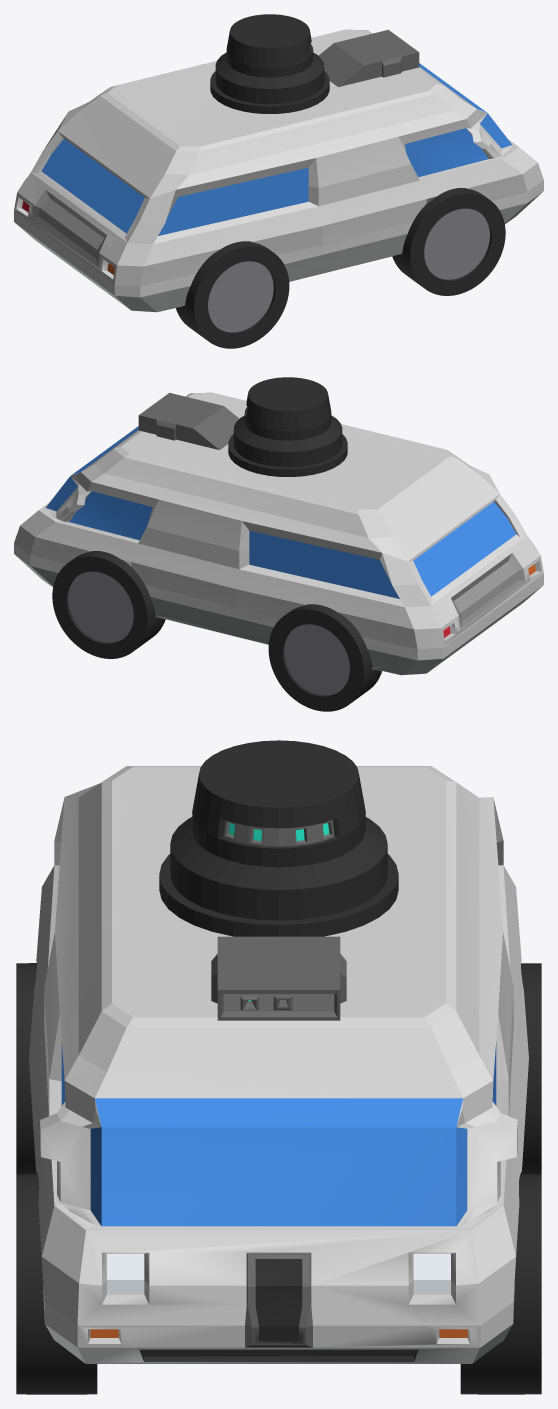
Rendered from car2.glb.
3 renders of one model, top to bottom at view 1: azimuth 30°, elevation 25°; view 2: azimuth 150°, elevation 25°; view 3: azimuth 270°, elevation 25°, orthographic. The views are drawn at different scales.
Parts seen in each view (by area): view 1: CarFrame, LIDAR, Wheel_BR, Wheel_FR; view 2: CarFrame, LIDAR, Wheel_BL, Wheel_FL; view 3: CarFrame, LIDAR, Wheel_FR, Wheel_FL, Wheel_BL, Wheel_BR.
Boxes of the visible parts, x1,y1,x2,y2 form: CarFrame: (14, 29, 543, 312); LIDAR: (210, 14, 329, 113); Wheel_BR: (176, 241, 289, 348); Wheel_FR: (392, 188, 505, 295); CarFrame: (14, 392, 543, 675); LIDAR: (228, 377, 347, 476); Wheel_BL: (268, 604, 381, 711); Wheel_FL: (52, 551, 165, 658); CarFrame: (29, 766, 528, 1363); LIDAR: (159, 740, 398, 936); Wheel_FR: (16, 1174, 97, 1394); Wheel_FL: (460, 1174, 541, 1394); Wheel_BL: (521, 963, 541, 1174); Wheel_BR: (16, 963, 37, 1174).
Bounding box in the file's own units: 30.55 × 16.65 × 16.16.
